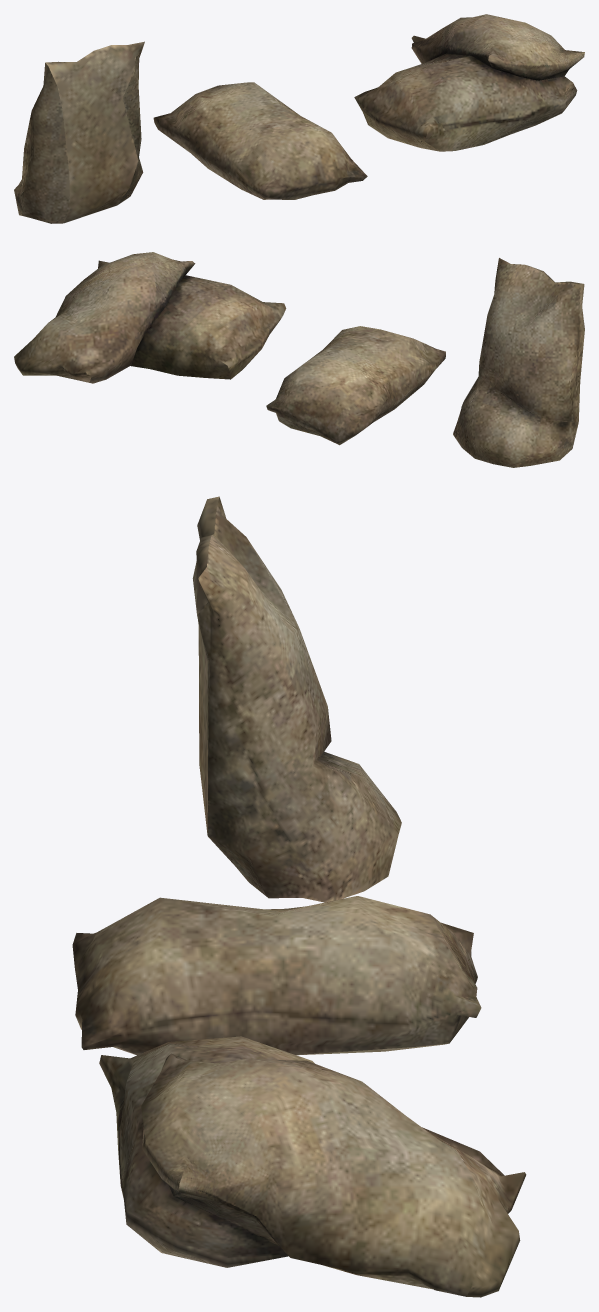
Rendered from Sandbags_Corner_Loose.obj.
3 renders of one model, top to bottom at view 1: azimuth 30°, elevation 25°; view 2: azimuth 150°, elevation 25°; view 3: azimuth 270°, elevation 25°, orthographic. The views are drawn at different scales.
Visible parts, largest first — view 1: Sandbags_Corner_Loose.mo_Sandbags_Corner_Loose.md; view 2: Sandbags_Corner_Loose.mo_Sandbags_Corner_Loose.md; view 3: Sandbags_Corner_Loose.mo_Sandbags_Corner_Loose.md.
Boxes of the visible parts, box(x1,y1,x2,y2) form: Sandbags_Corner_Loose.mo_Sandbags_Corner_Loose.md: box(14, 14, 584, 223); Sandbags_Corner_Loose.mo_Sandbags_Corner_Loose.md: box(14, 252, 584, 467); Sandbags_Corner_Loose.mo_Sandbags_Corner_Loose.md: box(72, 496, 526, 1297).
Size of the model in its own units: 276 by 84.7 by 106.
1 material, 1 textured.
